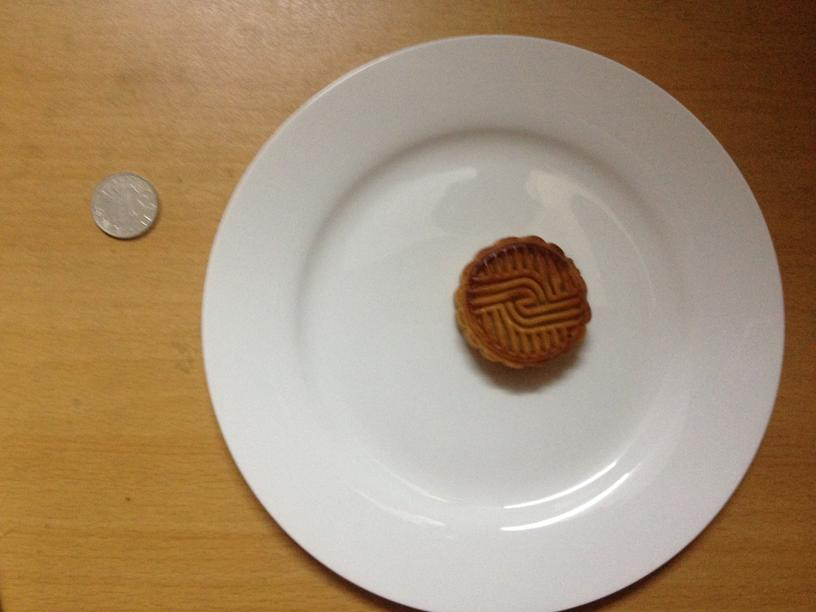coin: (90, 173, 161, 241)
mooncake: (457, 235, 591, 369)
